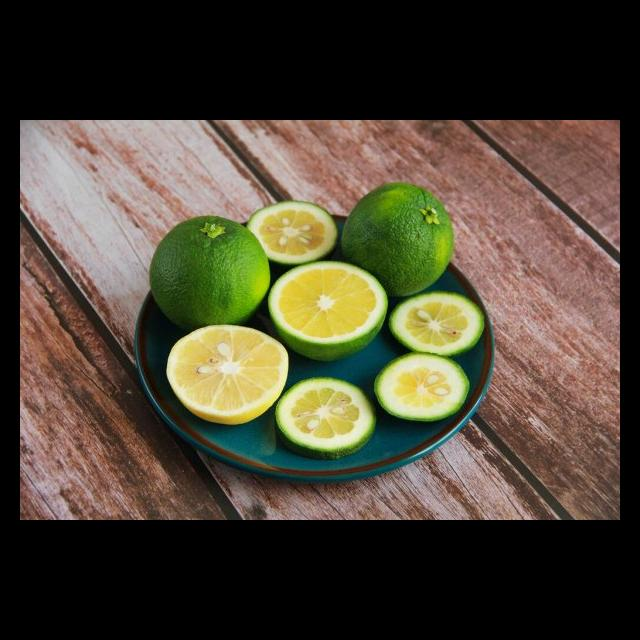lime: (143, 209, 272, 337), (335, 176, 457, 303)
